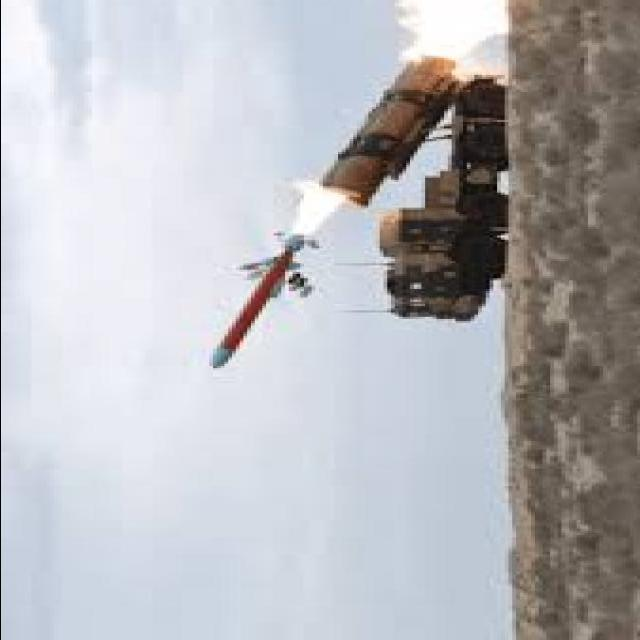Missile: (197, 241, 307, 373)
